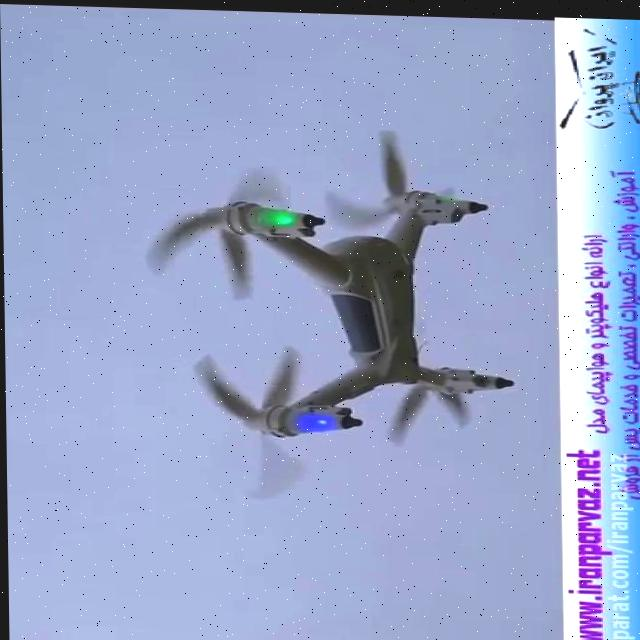drone: (137, 118, 522, 507)
